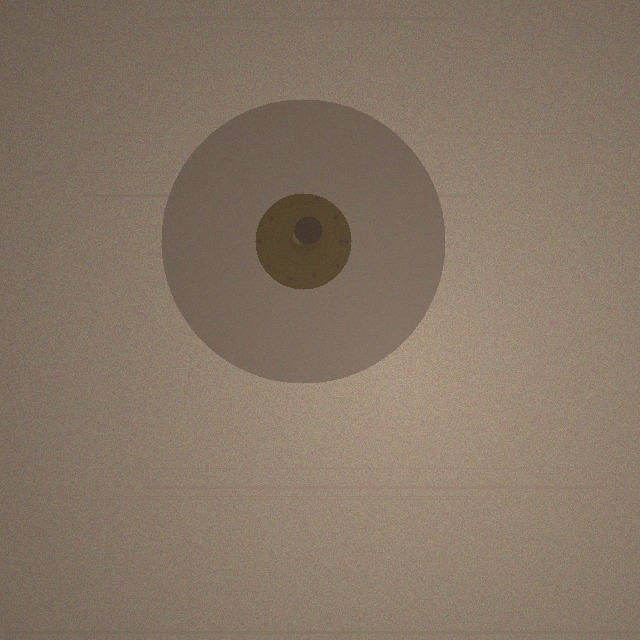cold_weld: (161, 99, 445, 383)
